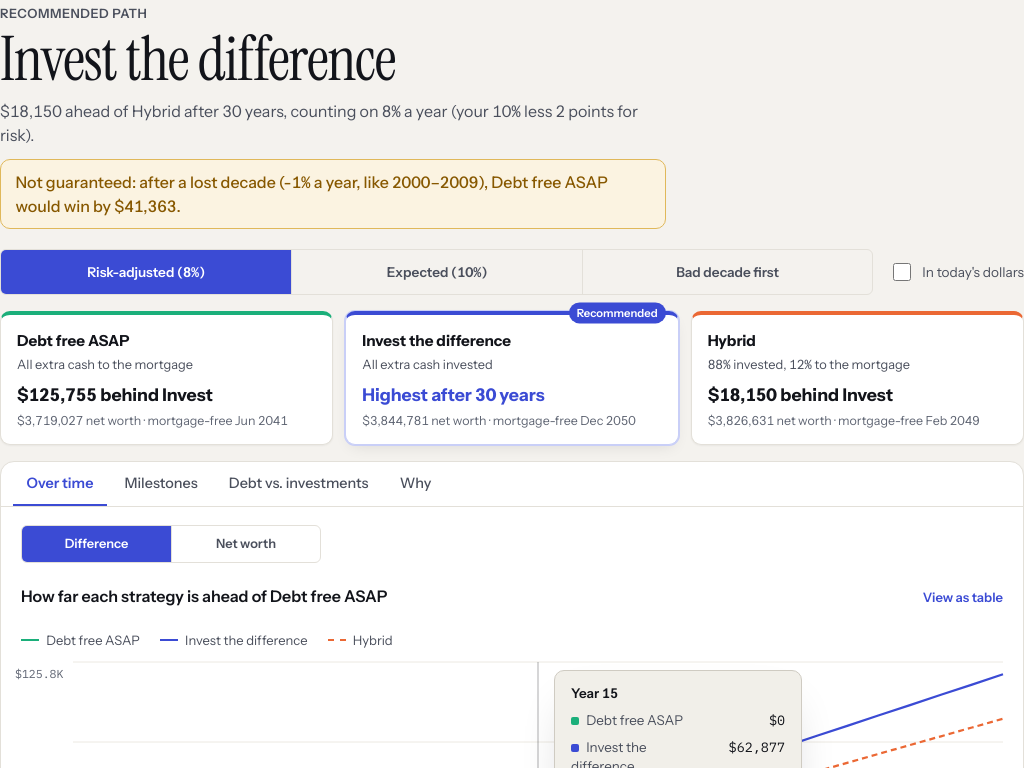
Test case: StrategyResultsComponent › shows one detail at a time, starting with the difference over time
Click the tab "Why" at (416, 484), box [386, 462, 445, 506]
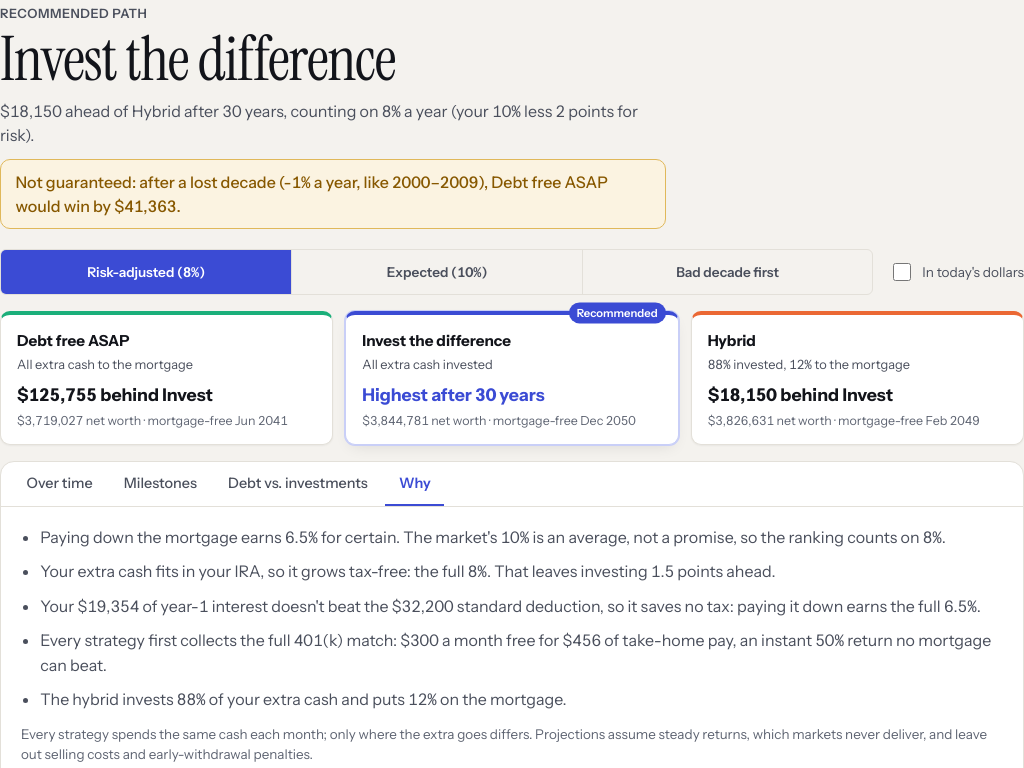
Expected: the number of list items is 5, [40, 525, 1003, 550]; [40, 561, 776, 581]; [40, 594, 1003, 619]; [40, 628, 1003, 678]; [40, 689, 566, 709]
